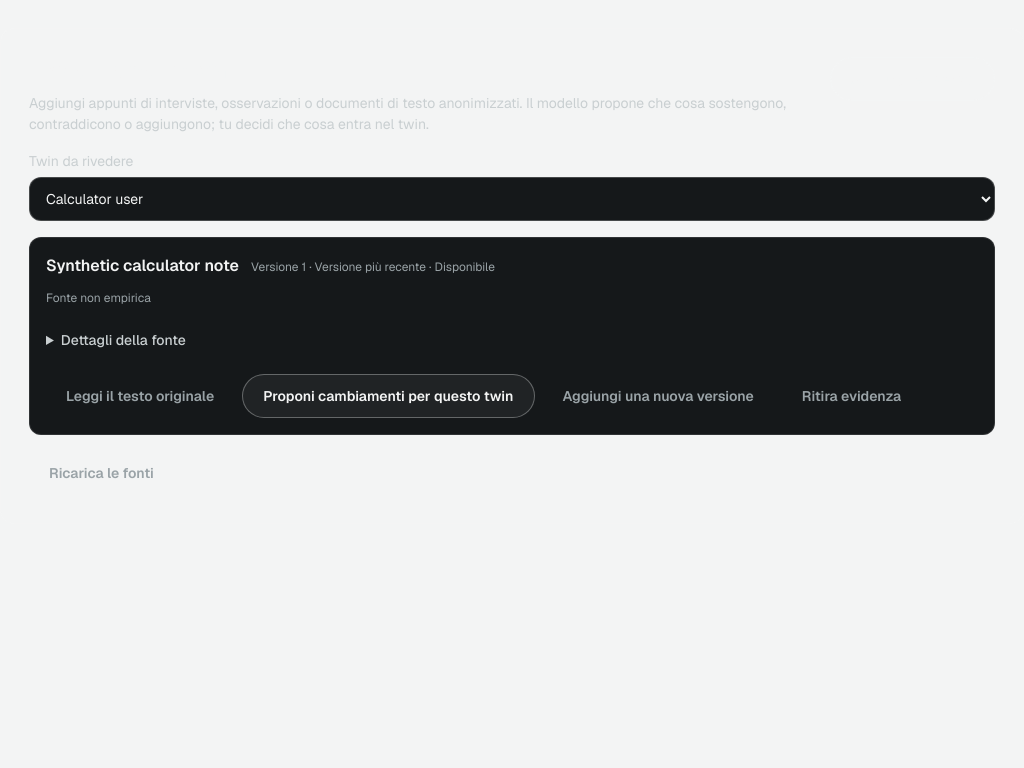
Scenario: ProjectResearchEvidencePanel › states that withdrawal did not approve an existing draft
The width and height of the screenshot is (1024, 768).
Click the button with test id "evidence-retire" at [852, 396], box [782, 374, 921, 418]
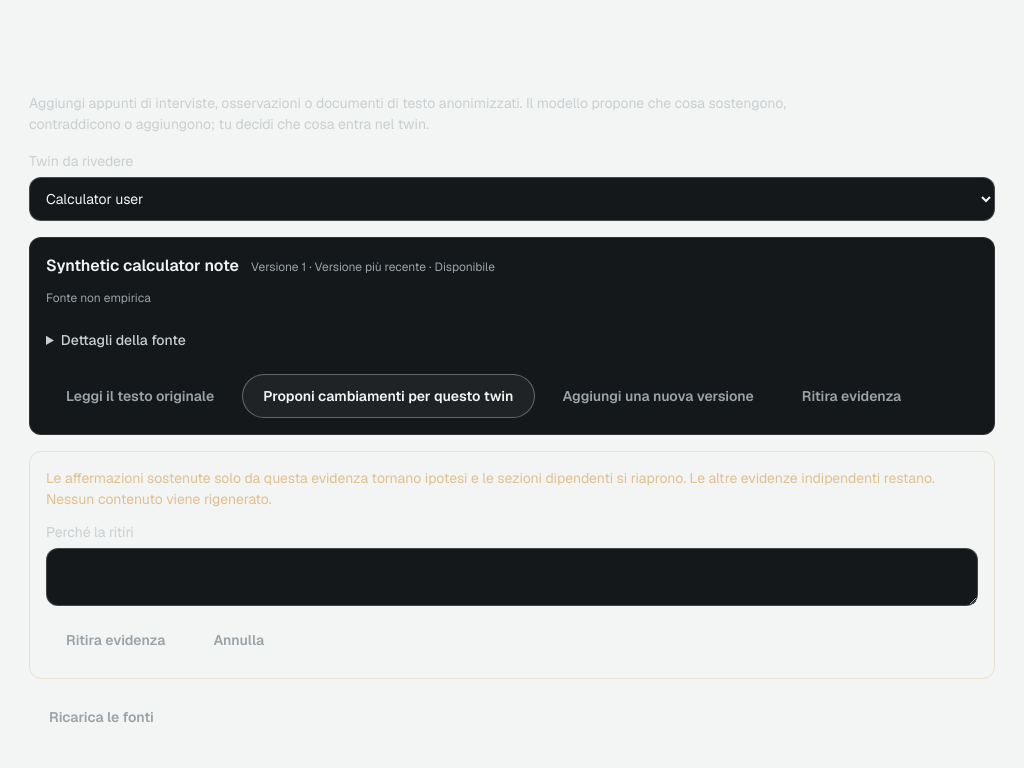
Type "Synthetic source withdrawn" into the text box with test id "evidence-retire-reason" at [512, 576], box [46, 548, 978, 606]
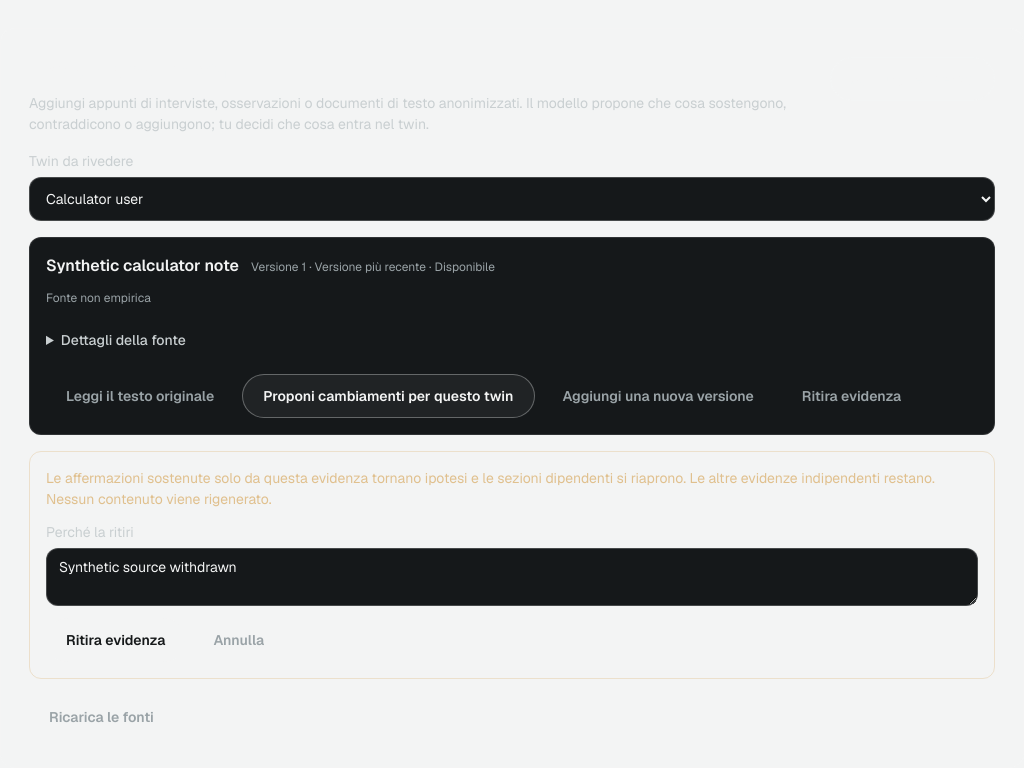
Submit the form with test id "evidence-retire-form", box [29, 450, 995, 678]
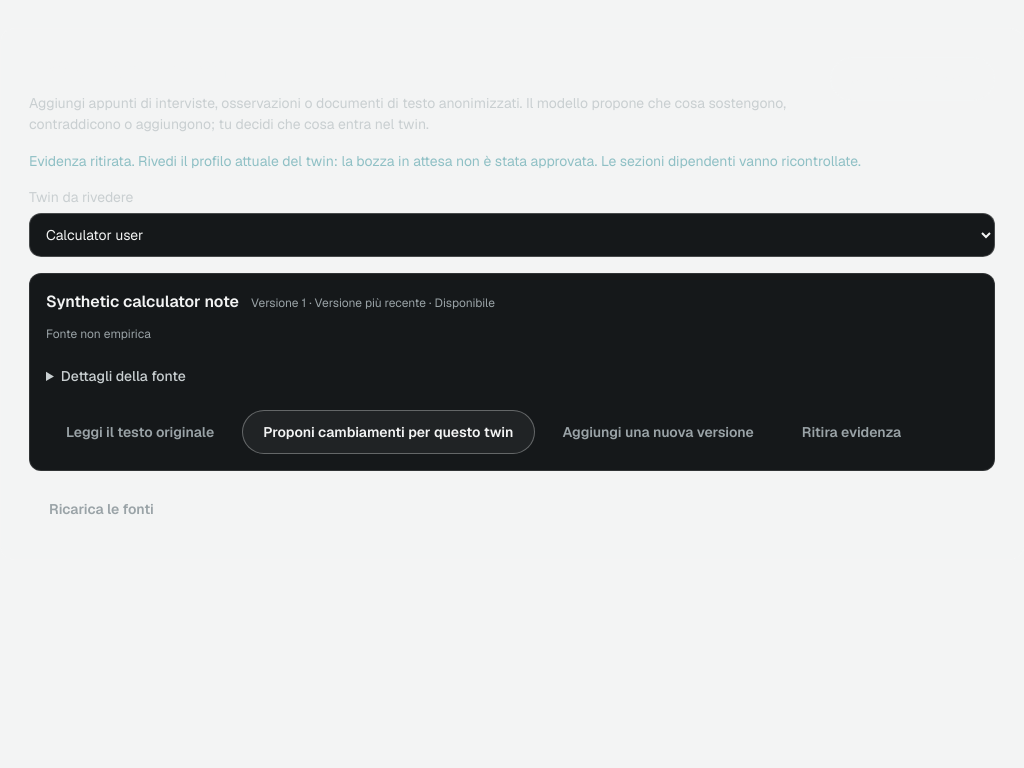
Expected: the message with test id "evidence-notice" shows "la bozza in attesa non è stata approvata", [29, 152, 861, 170]
